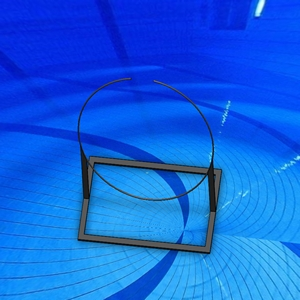circle: (77, 76, 222, 255)
